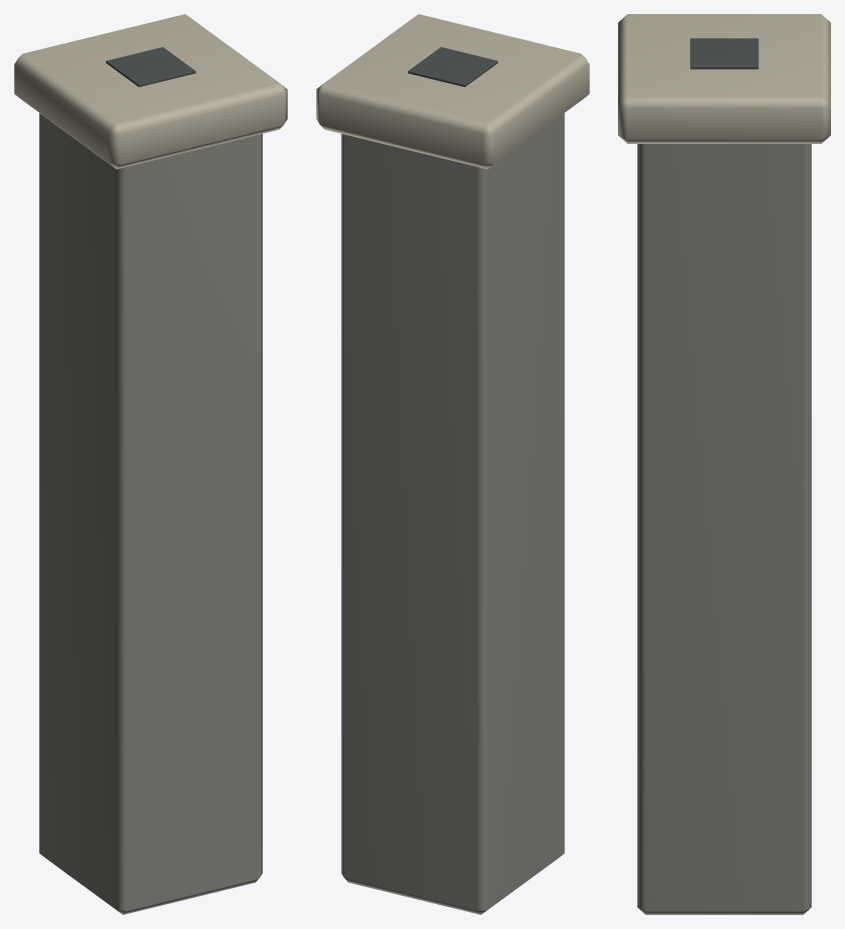
Rendered from PerimeterPillar02.fbx.
The picture shows the model from 3 angles, left to right: view 1: azimuth 30°, elevation 25°; view 2: azimuth 150°, elevation 25°; view 3: azimuth 270°, elevation 25°; orthographic projection. The views are drawn at different scales.
Parts seen in each view (by area): view 1: PerimeterPillar02; view 2: PerimeterPillar02; view 3: PerimeterPillar02.
Boxes of the visible parts, bbox=[...] form: PerimeterPillar02: bbox=[14, 14, 287, 914]; PerimeterPillar02: bbox=[316, 14, 589, 914]; PerimeterPillar02: bbox=[618, 14, 830, 914].
Size of the model in its own units: 100 by 430 by 100.
